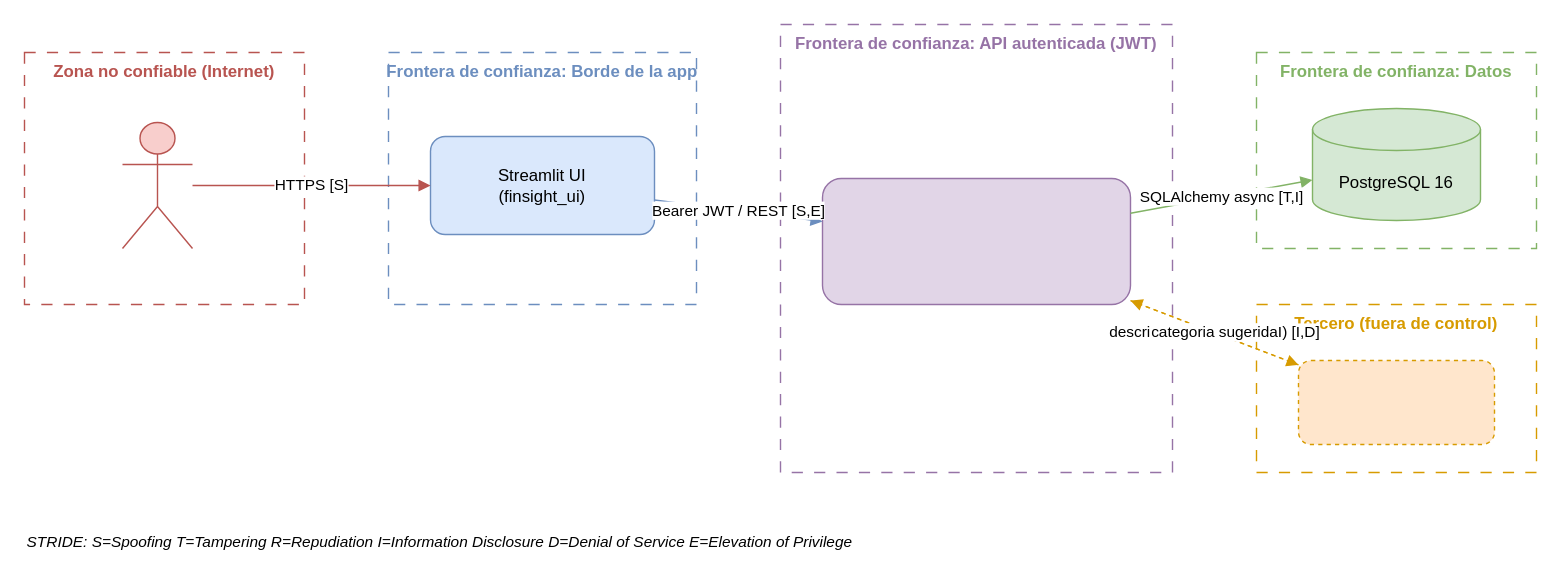
The diagram is 1561 pixels wide and 581 high, and some of its shapes have lost their labels. Each missing label, with the centre of its shape:
"Anthropic LLM API" goes at (1395,401).
"FastAPI auth · expenses · budgets dashboard · exports · insights" goes at (975,240).
"Usuario / Navegador" goes at (156,184).
